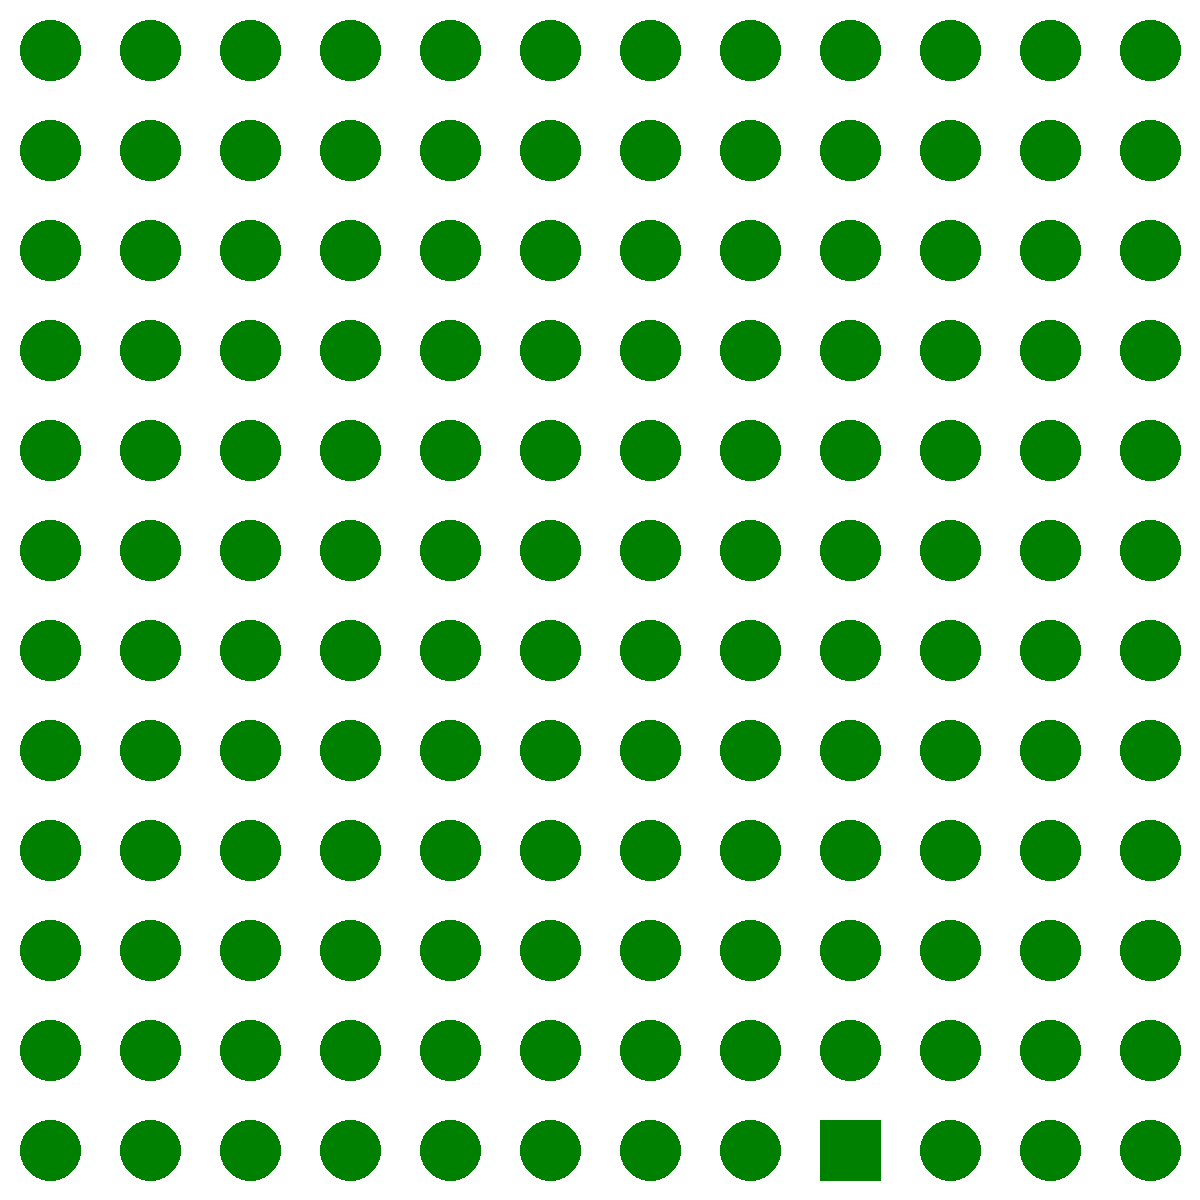Green-square: (820, 1120, 880, 1180)
